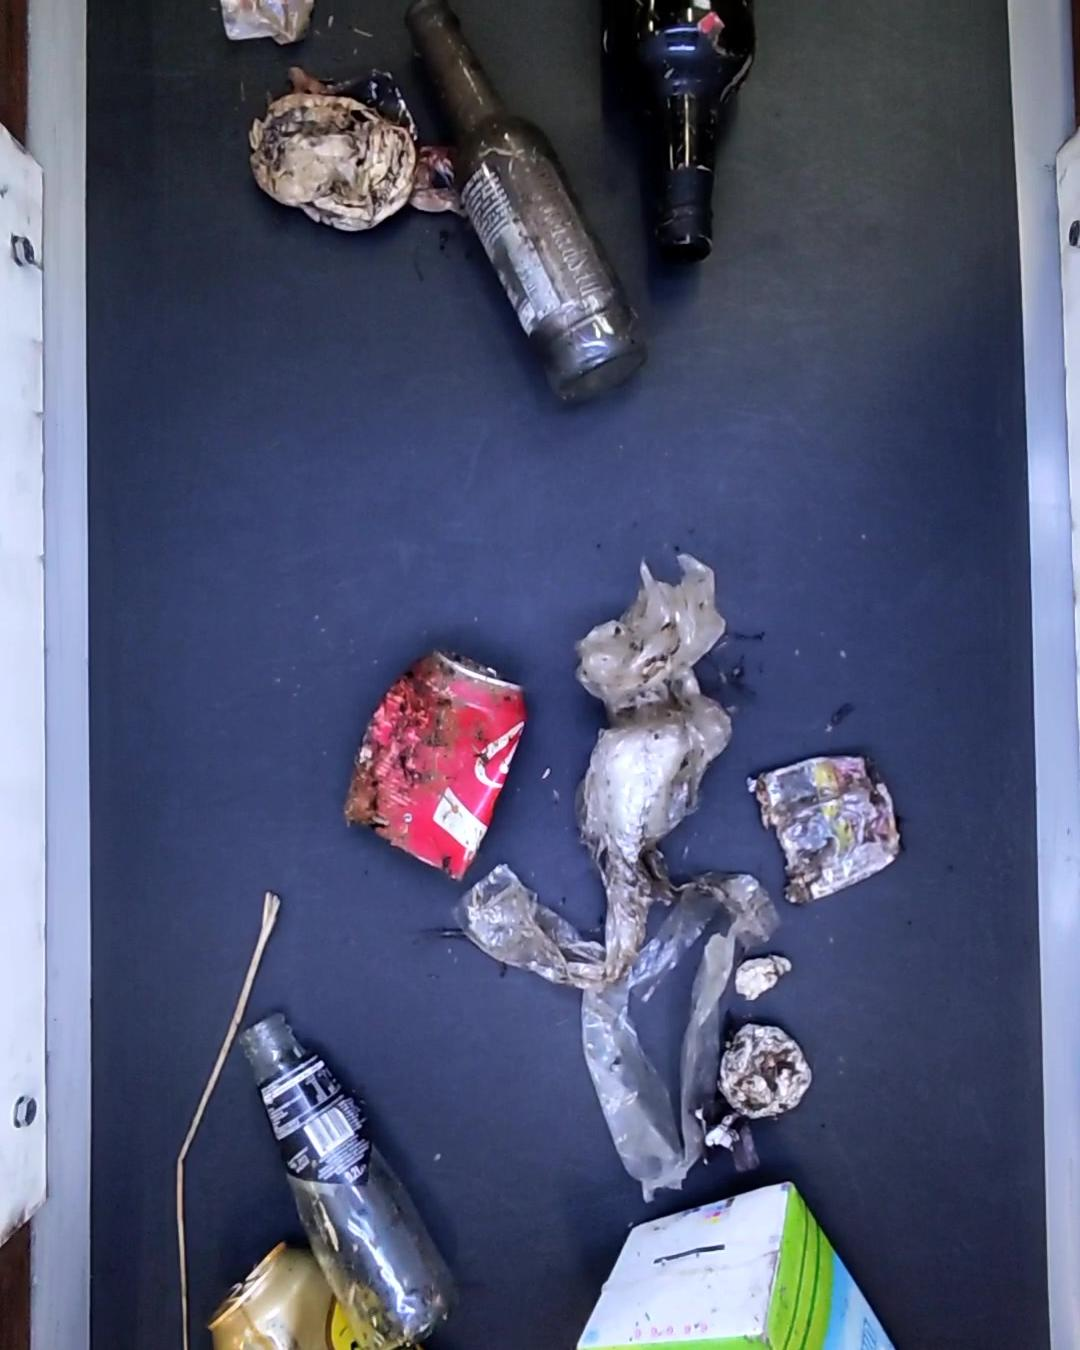Drankblikjes: (337, 644, 532, 874), (195, 1241, 412, 1350)
Plastic folies of stukken daarvan 2.5- 50 cm: (456, 548, 730, 989), (584, 867, 774, 1201)
